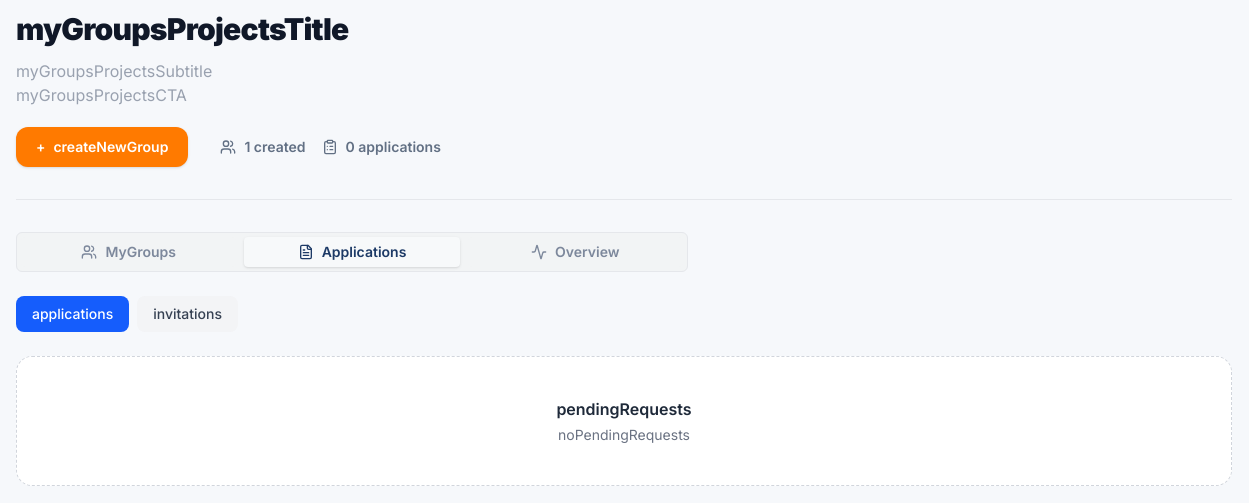
Test: MyGroupsPage Report5 › UTC36 [B] Render invitation without topicTitle => Shows without topic
The image size is (1249, 503).
Click the button "invitations": (188, 314) [137, 296, 238, 332]
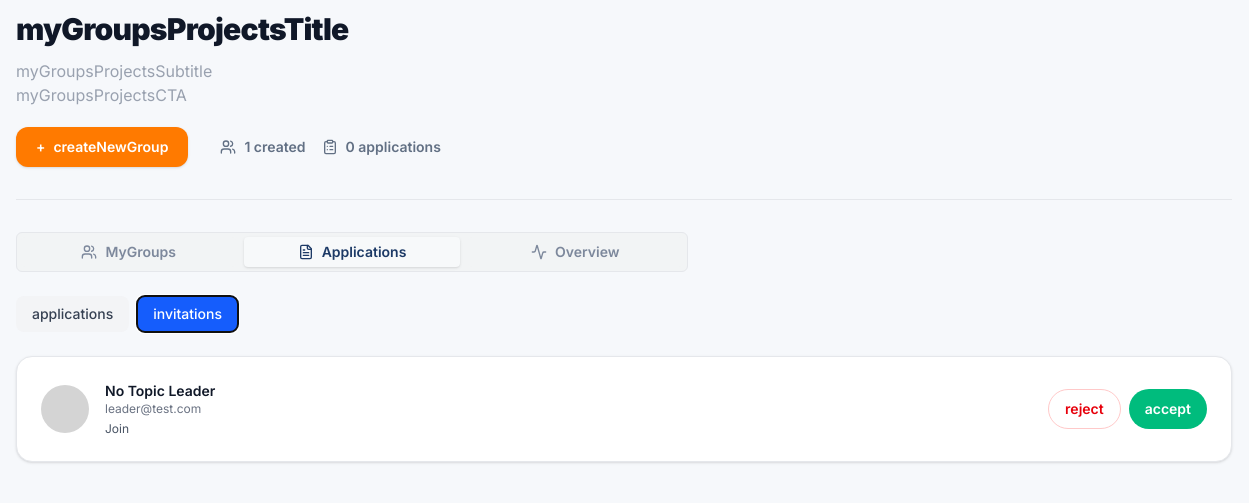
Now the text "No Topic Leader" is shown, box [105, 382, 215, 399]
